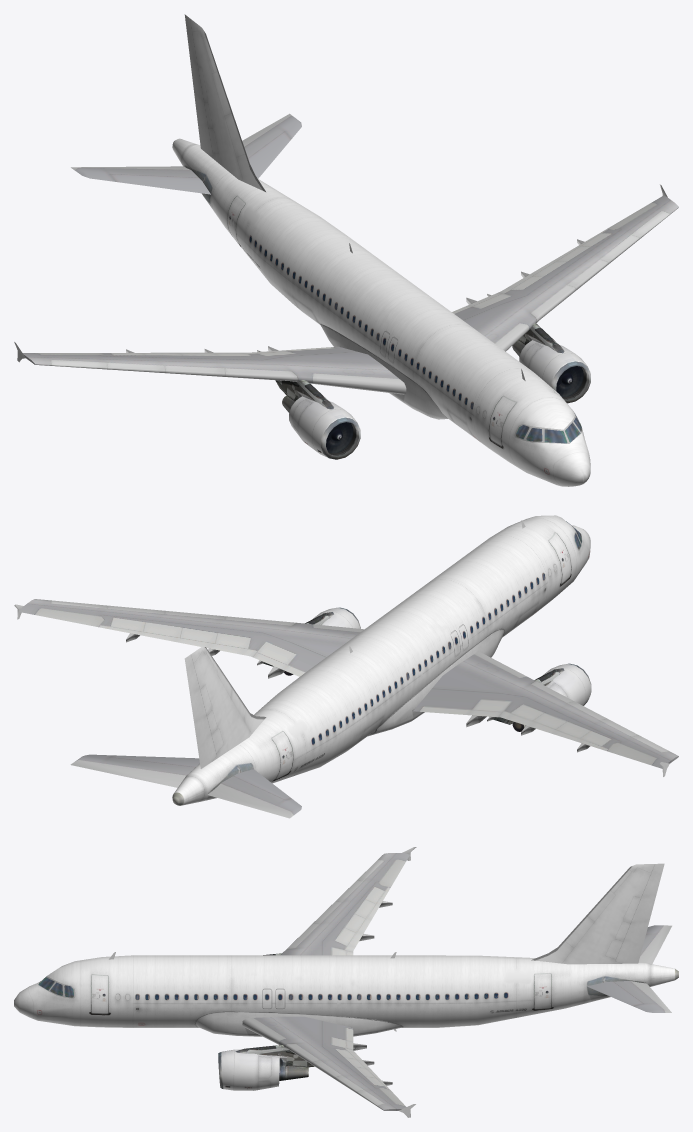
Rendered from airbus_a320.glb.
3 views of the same model, one above another, from view 1: azimuth 30°, elevation 25°; view 2: azimuth 150°, elevation 25°; view 3: azimuth 270°, elevation 25° (orthographic). The views are drawn at different scales.
Visible parts, largest first — view 1: a320_0; view 2: a320_0; view 3: a320_0.
Part boxes in pixels (bbox=[...]): a320_0: bbox=[14, 14, 678, 486]; a320_0: bbox=[14, 515, 678, 818]; a320_0: bbox=[14, 847, 678, 1117].
Size of the model in its own units: 34.38 by 11.2 by 37.62.
Materials: 4 (4 with a texture image).
